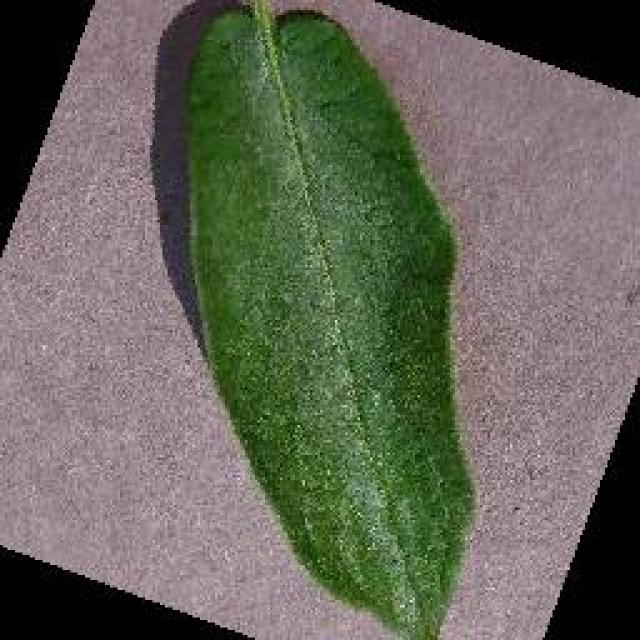Potato___healthy: (179, 0, 483, 638)
